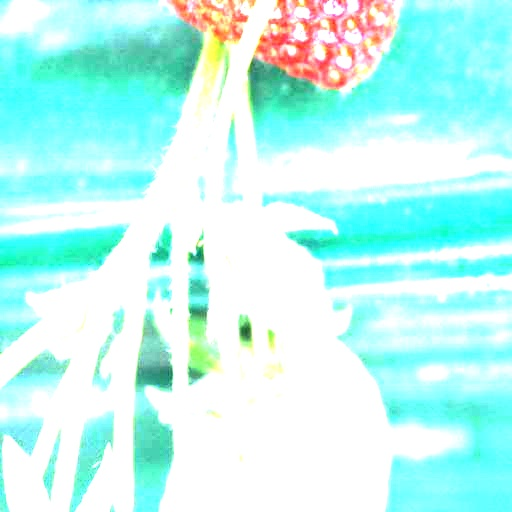Gray Mold: (204, 196, 339, 378)
